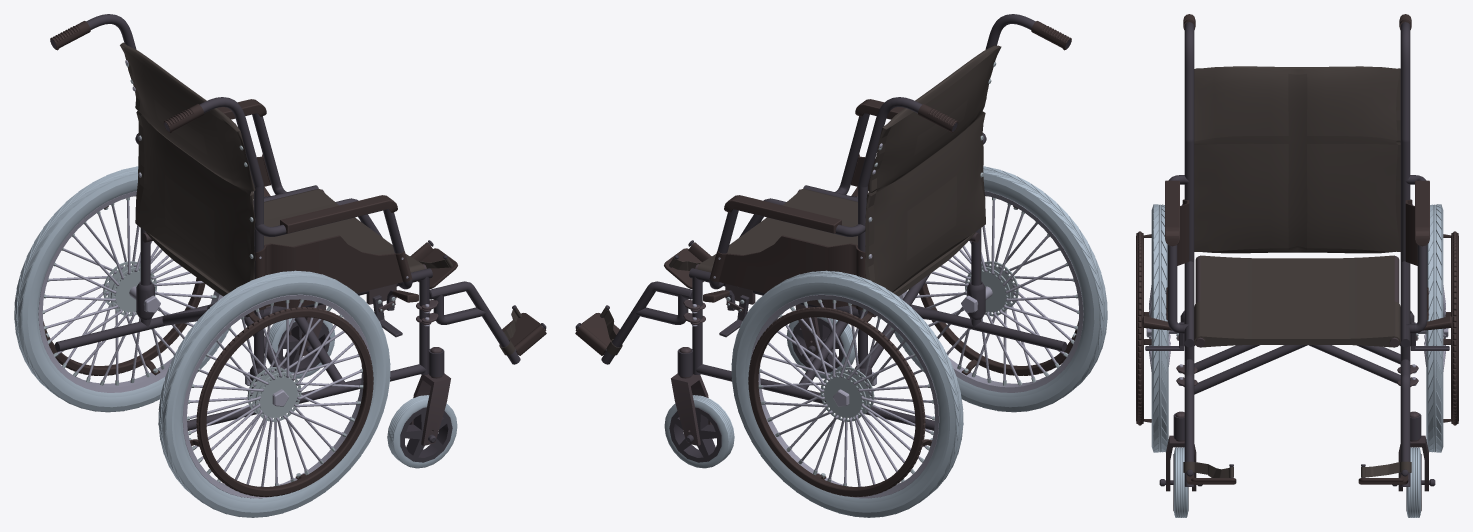
The model's file is HW7_wheelchair_FULL.fbx.
3 views of the same model, side by side, from view 1: azimuth 30°, elevation 25°; view 2: azimuth 150°, elevation 25°; view 3: azimuth 270°, elevation 25° (orthographic). The views are drawn at different scales.
Visible parts, largest first — view 1: polySurface502, polySurface502.001, polySurface502.002; view 2: polySurface502, polySurface502.002, polySurface502.001; view 3: polySurface502, polySurface502.002, polySurface502.001.
Boxes of the visible parts, <box> form: polySurface502: <box>50,14,546,468</box>; polySurface502.001: <box>158,270,390,517</box>; polySurface502.002: <box>14,166,228,412</box>; polySurface502: <box>575,14,1071,468</box>; polySurface502.002: <box>731,270,963,517</box>; polySurface502.001: <box>894,166,1107,412</box>; polySurface502: <box>1142,14,1452,517</box>; polySurface502.002: <box>1415,204,1458,452</box>; polySurface502.001: <box>1136,204,1170,452</box>.
Bounding box in the file's own units: 692 × 679 × 505.
